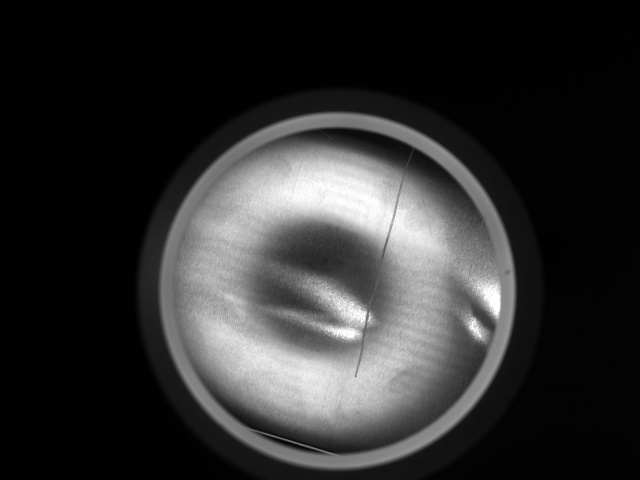ca_shang: (352, 148, 416, 379)
